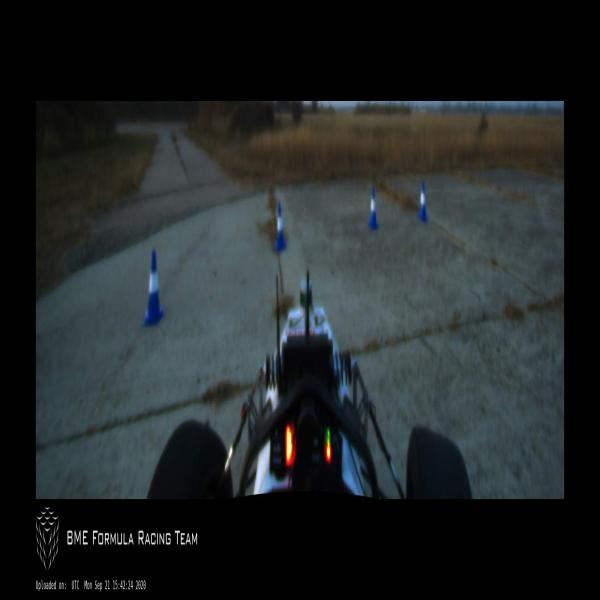blue_cone: (143, 250, 164, 325), (274, 203, 286, 251), (368, 186, 378, 229), (418, 183, 427, 222)
